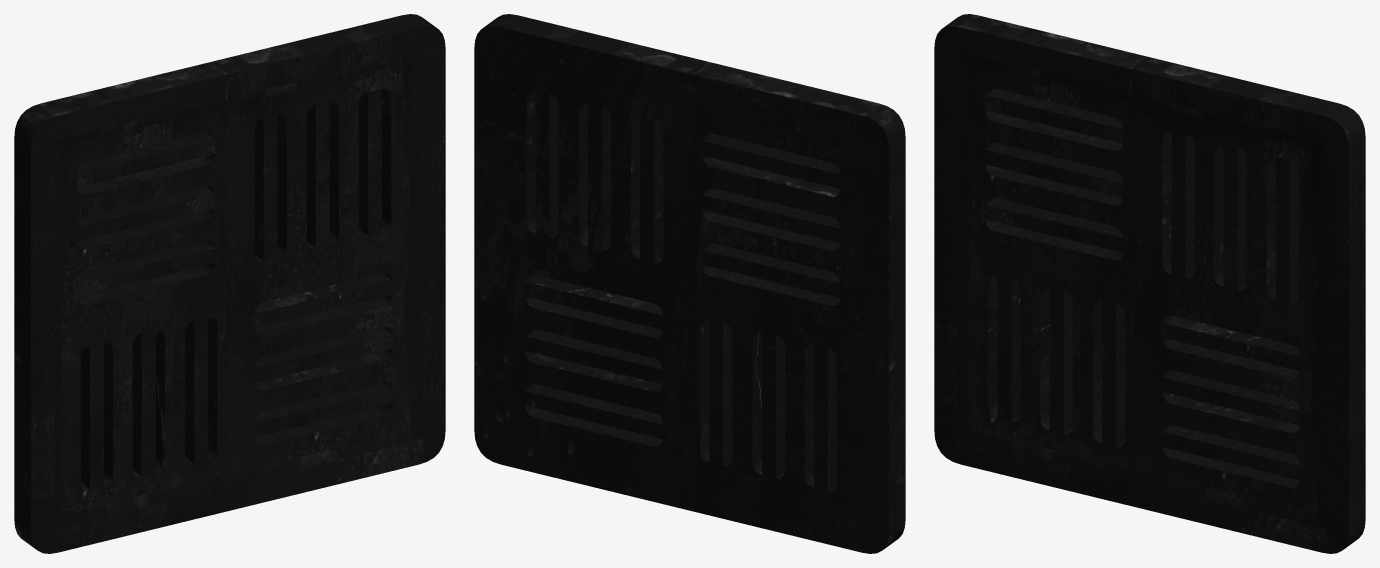
Rendered from Floor Trap Hatch_Original Prefab v2.fbx.
The picture shows the model from 3 angles, left to right: view 1: azimuth 30°, elevation 25°; view 2: azimuth 150°, elevation 25°; view 3: azimuth 330°, elevation 25°; orthographic projection.
Visible parts, largest first — view 1: Box001; view 2: Box001; view 3: Box001.
Part boxes in pixels (box(x1,y1,x2,y2)): Box001: box(14, 14, 445, 553); Box001: box(474, 14, 905, 553); Box001: box(934, 14, 1365, 553).
Size of the model in its own units: 60.11 by 60.56 by 4.2.
1 material, 1 textured.
